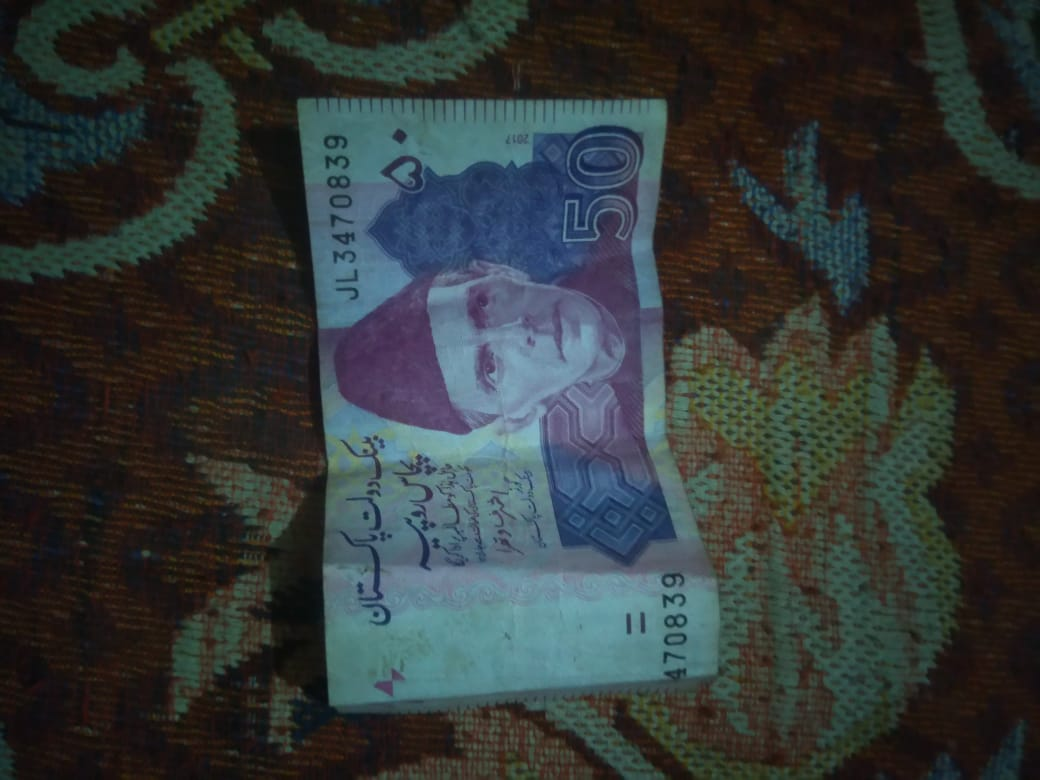50 rupee: (269, 91, 741, 725)
